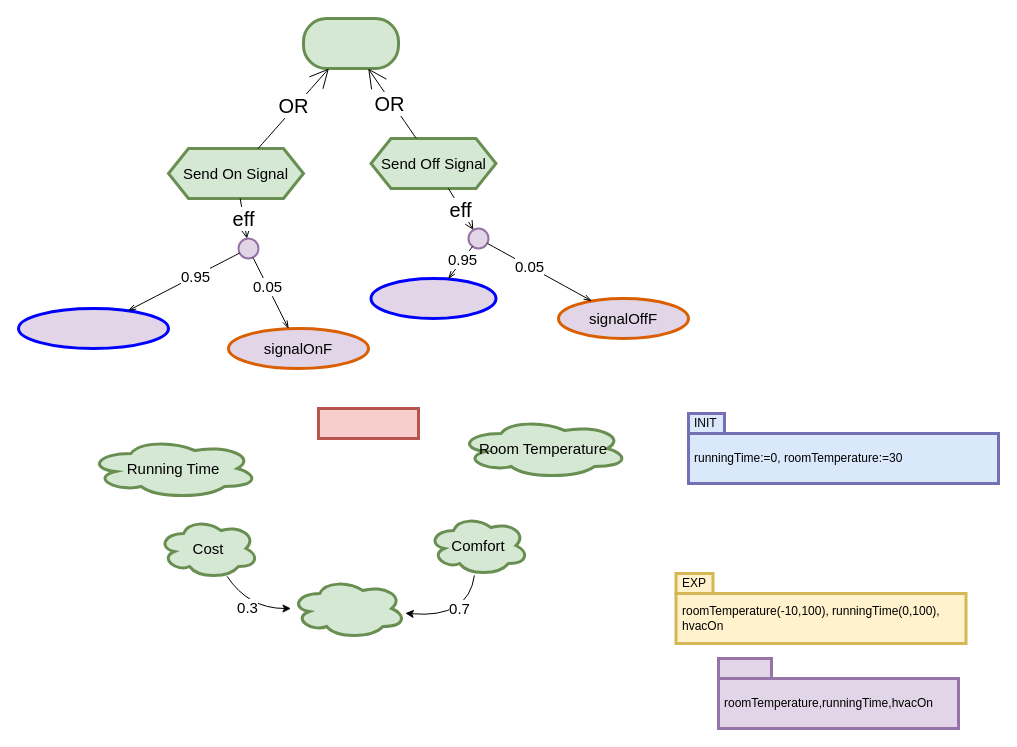
This 1017x747 diagram has some shape labels left out. Here are the shapes that lost their labels. From the top down, the centre of each, then its label:
At pixel 351 43: "Control Heater".
At pixel 433 298: "signalOffS".
At pixel 93 328: "signalOnS".
At pixel 368 423: "hvacOn".
At pixel 348 608: "Overall Quality".
At pixel 744 668: "CROSS".
